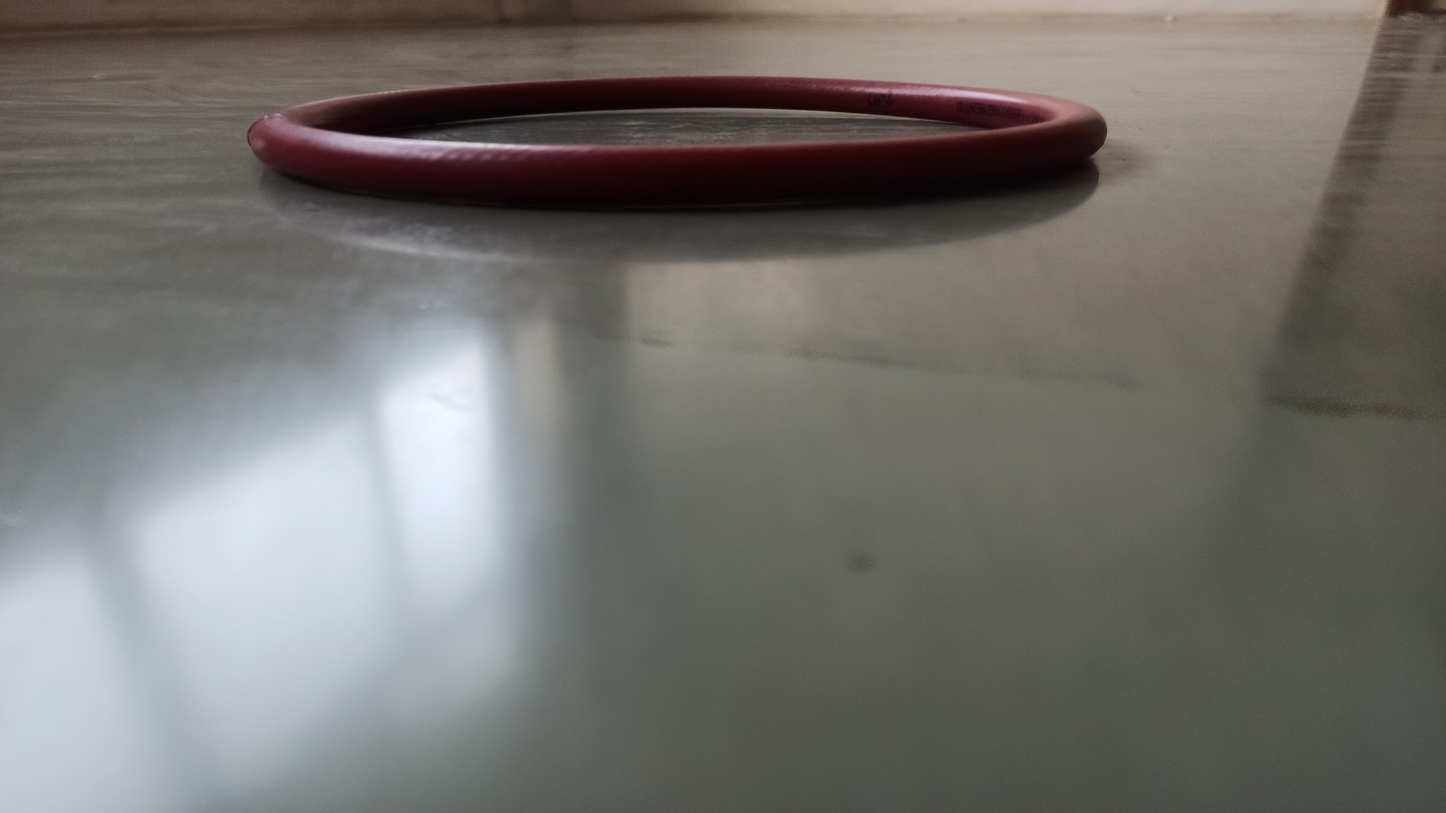Red ring: (248, 74, 1106, 209)
